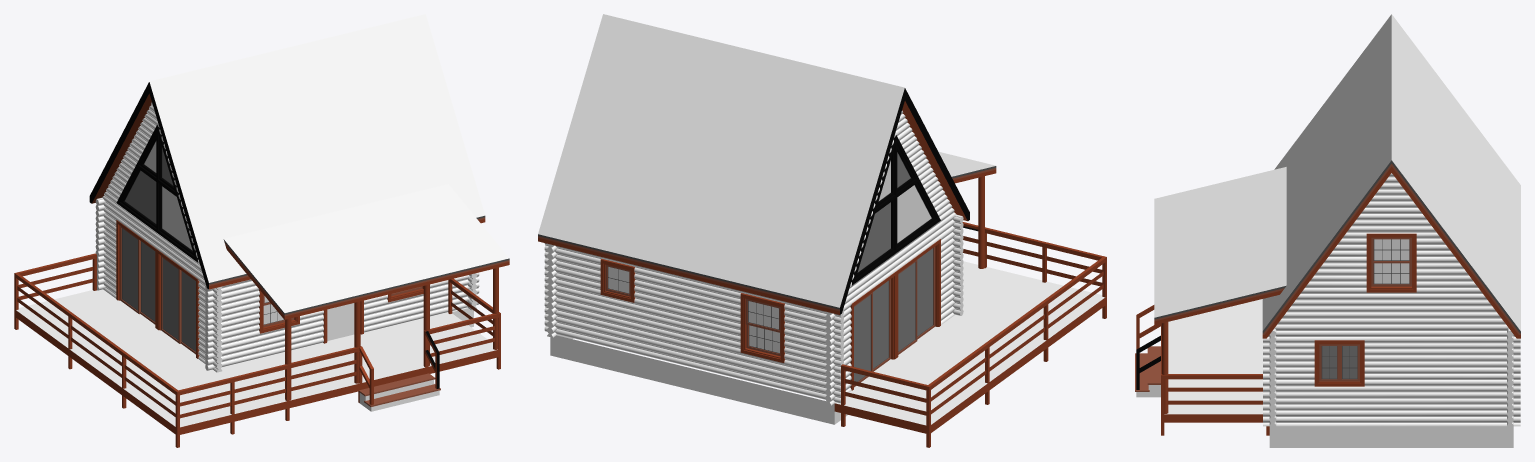
The model's file is Cab.fbx.
The picture shows the model from 3 angles, left to right: view 1: azimuth 30°, elevation 25°; view 2: azimuth 150°, elevation 25°; view 3: azimuth 270°, elevation 25°; orthographic projection. The views are drawn at different scales.
Visible parts, largest first — view 1: Roof_001, Layer0_001, Loft_001; view 2: Roof_001, Layer0_001, Loft_001; view 3: Roof_001, Layer0_001, Loft_001.
Part boxes in pixels (x1,y1,x2,y2): Roof_001: (89, 14, 509, 319); Layer0_001: (14, 198, 500, 447); Loft_001: (102, 102, 201, 270); Roof_001: (538, 14, 996, 314); Layer0_001: (544, 176, 1106, 447); Loft_001: (848, 110, 956, 293); Roof_001: (1154, 14, 1520, 338); Layer0_001: (1135, 299, 1520, 447); Loft_001: (1275, 173, 1508, 327).
Bounding box in the file's own units: 9982 × 7243 × 8669.
